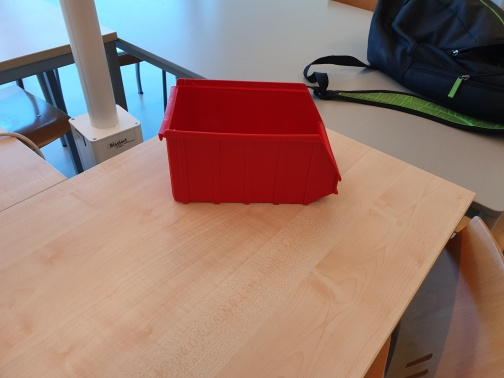tray_left: (160, 127, 342, 206)
